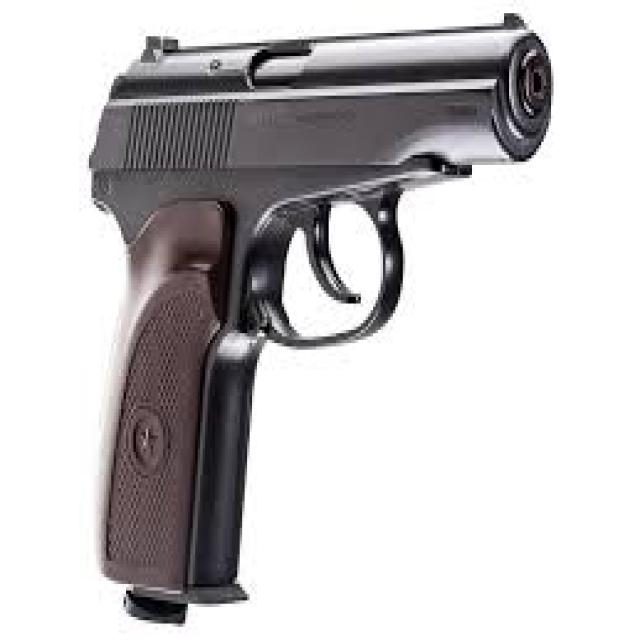pistol: (81, 6, 560, 633)
